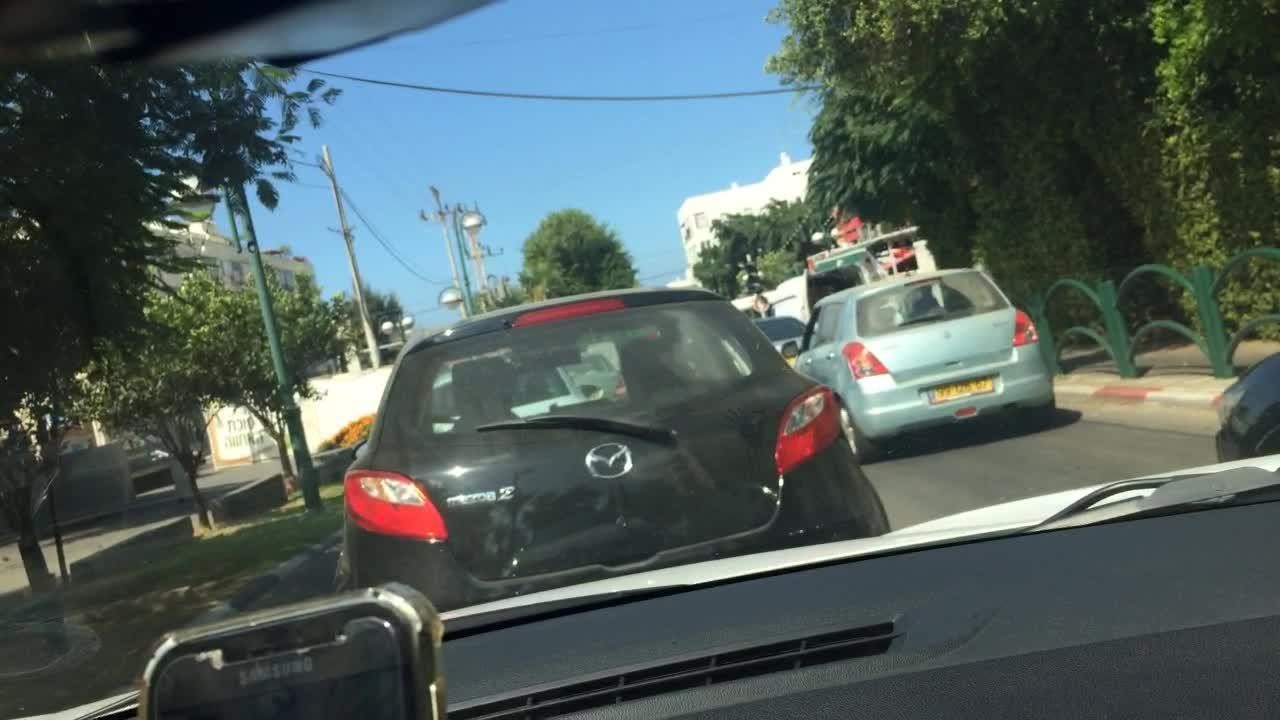Mazda: (575, 437, 642, 486)
